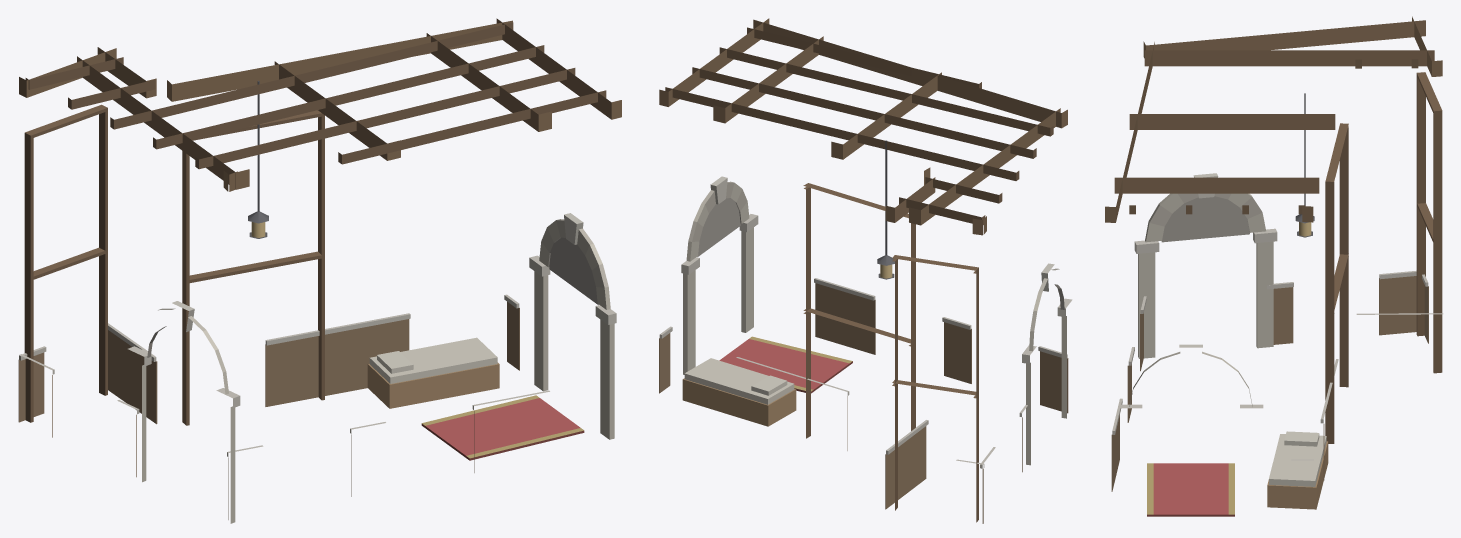
Rendered from interior_b055.glb.
3 views of the same model, side by side, from view 1: azimuth 30°, elevation 25°; view 2: azimuth 150°, elevation 25°; view 3: azimuth 270°, elevation 25° (orthographic). The views are drawn at different scales.
Visible parts, largest first — view 1: Interior_B055_mesh; view 2: Interior_B055_mesh; view 3: Interior_B055_mesh.
Part boxes in pixels (x1,y1,x2,y2): Interior_B055_mesh: (18, 18, 621, 523); Interior_B055_mesh: (659, 18, 1072, 523); Interior_B055_mesh: (1105, 16, 1443, 516).
Bounding box in the file's own units: 8.34 × 6.35 × 6.28.
